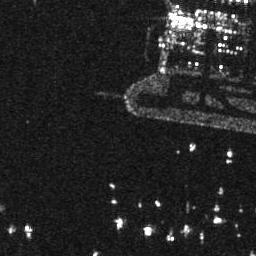ship: (24, 222, 33, 239), (176, 14, 186, 27), (187, 12, 193, 31), (114, 218, 124, 229), (171, 13, 178, 28), (193, 21, 208, 28), (195, 8, 204, 18), (212, 216, 223, 224), (188, 142, 197, 151), (167, 234, 176, 242), (226, 149, 233, 158), (110, 198, 118, 205), (155, 200, 162, 208), (225, 27, 233, 34), (110, 183, 116, 190)
